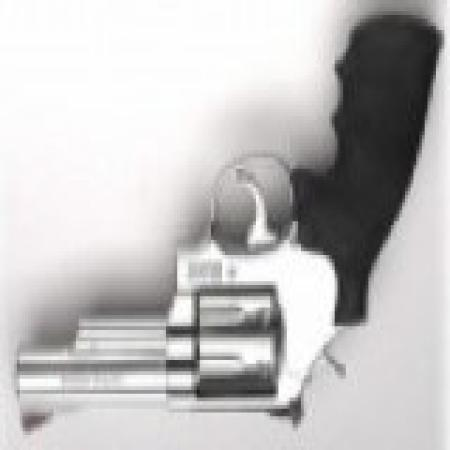Pistol: (20, 30, 442, 439)
